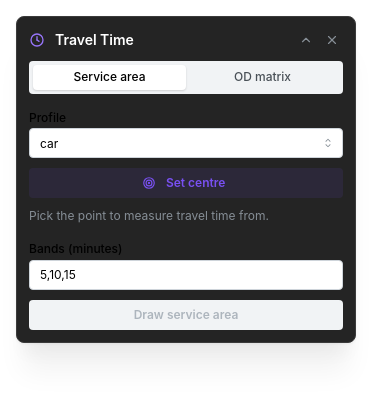
Test: TravelTimePanel service areas › draws one polygon per band from a map-picked centre
The image size is (372, 405).
Click the button "Set centre" at x=186, y=183, box [29,168,343,198]
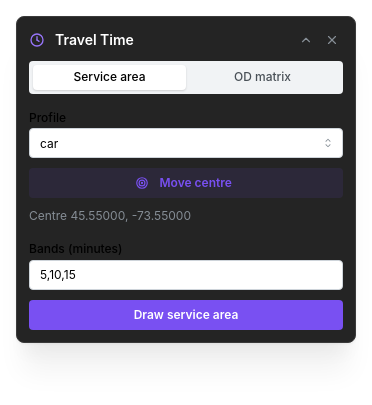
Expected: the text with test id "travel-time-centre" shows "45.55000, -73.55000", [29,208,191,223]
Replace the text in the field with test id "travel-time-bands" with "5, 10" at x=186, y=275, box [29,260,343,290]
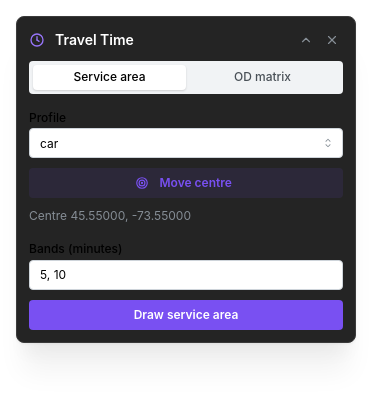
Click the button "Draw service area" at x=186, y=315, box [29,300,343,330]
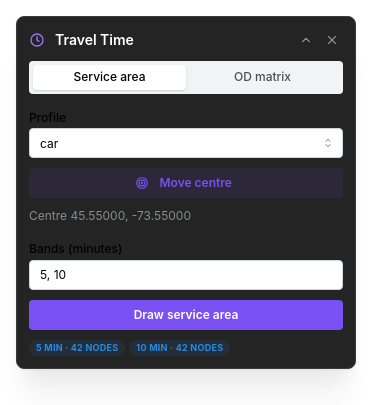
Expected: the element with test id "travel-time-area-result" shows "5 min · 42 nodes", [29,340,230,356]
